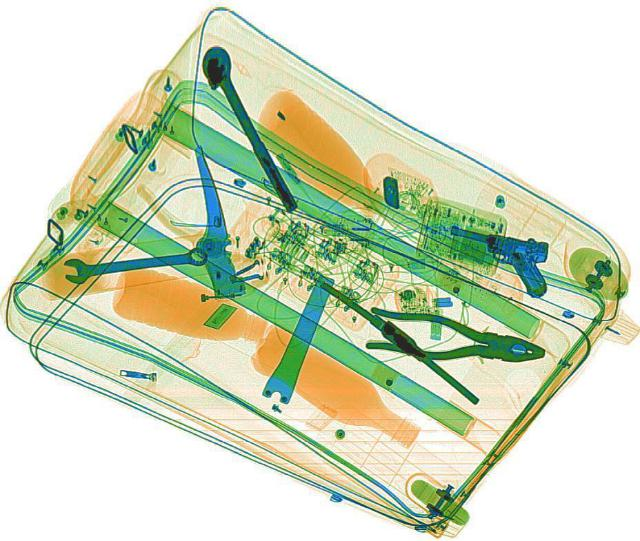Gun: (431, 220, 561, 299)
Pliers: (359, 303, 549, 374)
Wrench: (61, 238, 211, 285)
